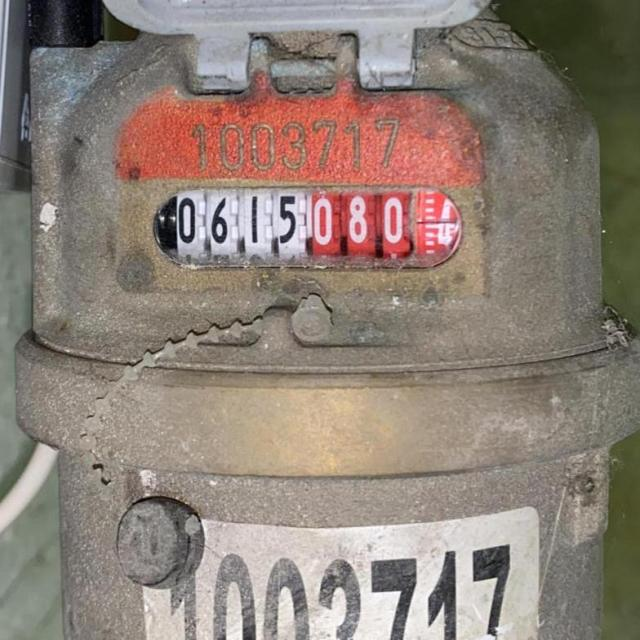gaz_meter: (55, 58, 577, 374)
indication: (171, 186, 462, 259)
